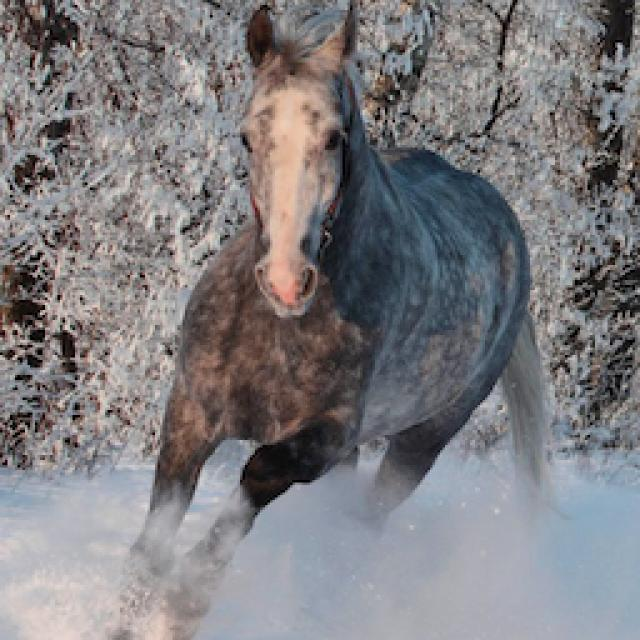Horse: (88, 0, 572, 638)
